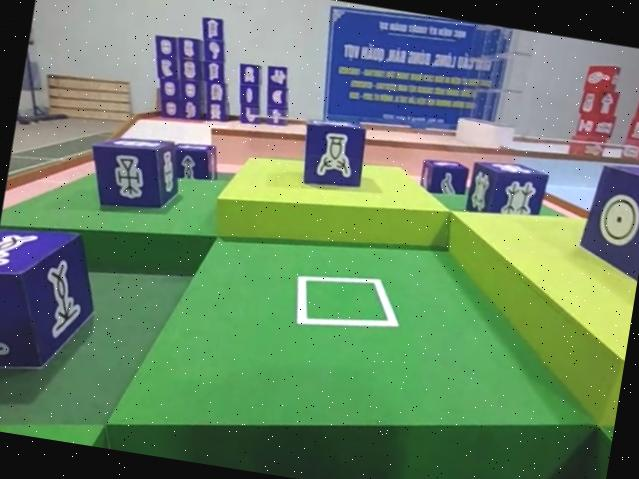R2 Real Blue: (0, 221, 99, 389), (83, 130, 186, 220), (576, 155, 639, 281), (464, 156, 551, 225), (293, 115, 367, 195), (164, 141, 217, 186), (418, 156, 472, 200)
